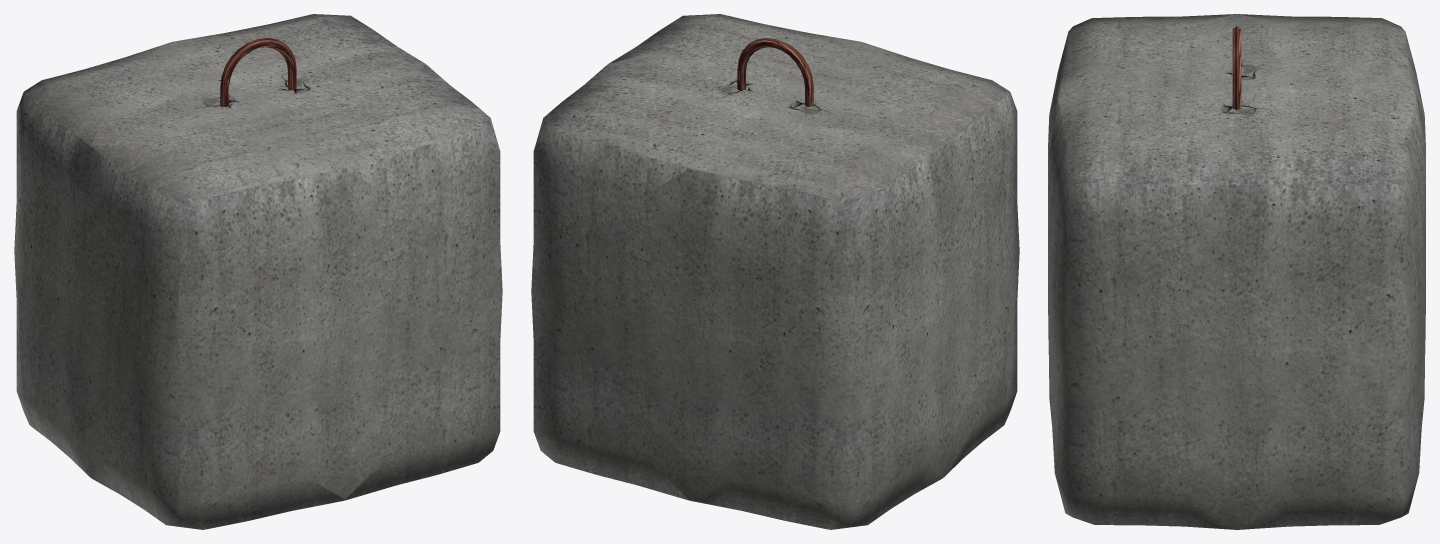
Rendered from SquareBetonadaWithIron.gltf.
3 renders of one model, left to right at view 1: azimuth 30°, elevation 25°; view 2: azimuth 150°, elevation 25°; view 3: azimuth 270°, elevation 25°, orthographic. The views are drawn at different scales.
Visible parts, largest first — view 1: node3, node1; view 2: node3, node1; view 3: node3, node1.
Part boxes in pixels (box(x1,y1,x2,y2)): node3: box(14, 14, 502, 529); node1: box(220, 38, 296, 106); node3: box(531, 14, 1019, 529); node1: box(737, 38, 813, 106); node3: box(1048, 14, 1425, 529); node1: box(1232, 26, 1241, 109).
Size of the model in its own units: 0.8487 by 0.9363 by 0.758.
